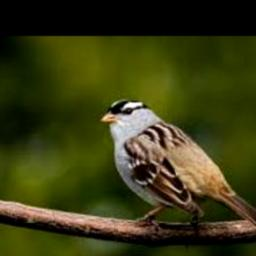Sparrow: (100, 98, 256, 238)
